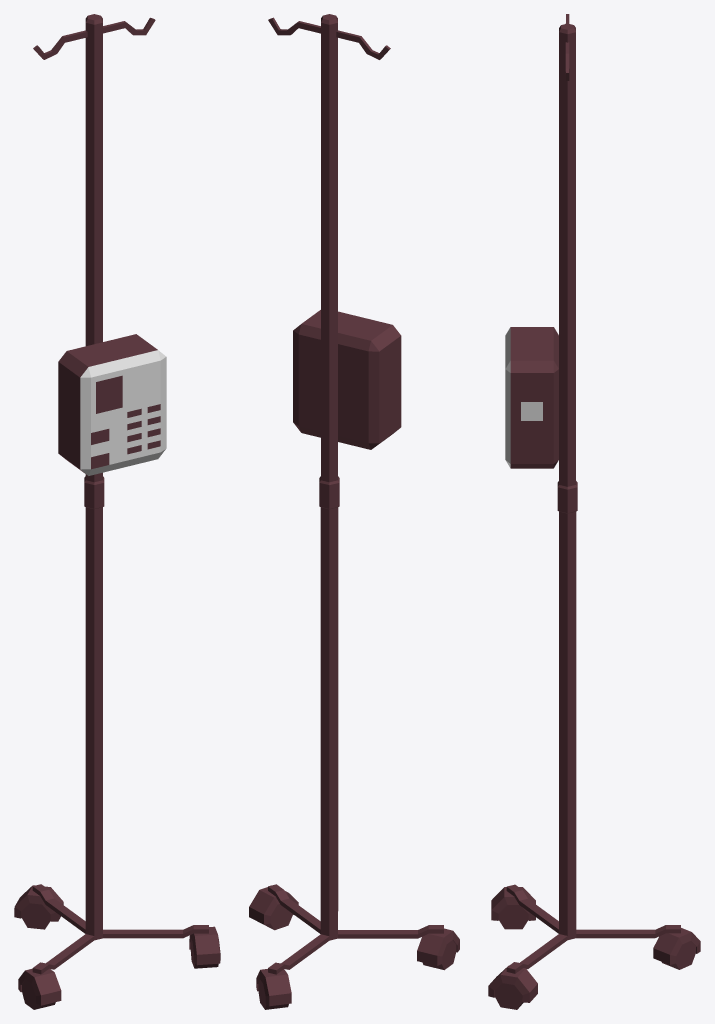
The model's file is iv-pole-monitor.fbx.
The picture shows the model from 3 angles, left to right: view 1: azimuth 30°, elevation 25°; view 2: azimuth 150°, elevation 25°; view 3: azimuth 270°, elevation 25°; orthographic projection.
Visible parts, largest first — view 1: iv-pole-monitor; view 2: iv-pole-monitor; view 3: iv-pole-monitor.
Part boxes in pixels (left/top/right/bottom): iv-pole-monitor: left=14, top=14, right=220, bottom=1009; iv-pole-monitor: left=249, top=14, right=459, bottom=1009; iv-pole-monitor: left=488, top=14, right=700, bottom=1009.
Size of the model in its own units: 0.4175 by 1.96 by 0.4031.
